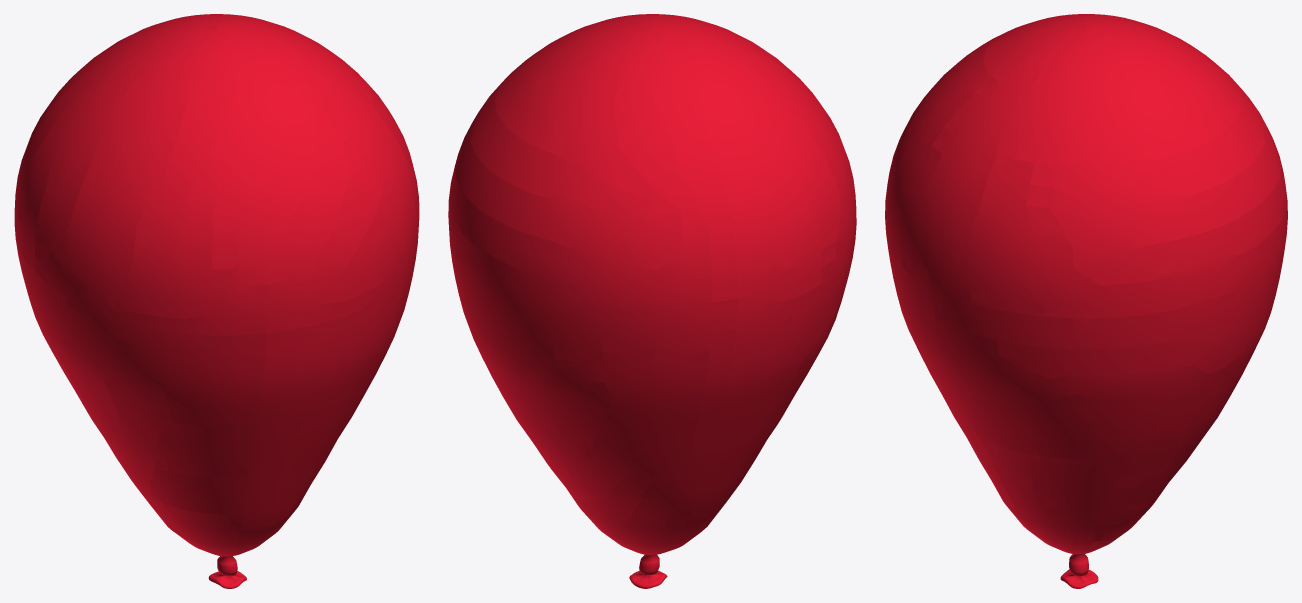
Rendered from balloon13.gltf.
The picture shows the model from 3 angles, left to right: view 1: azimuth 30°, elevation 25°; view 2: azimuth 150°, elevation 25°; view 3: azimuth 270°, elevation 25°; orthographic projection.
Parts seen in each view (by area): view 1: Sphere; view 2: Sphere; view 3: Sphere.
Part boxes in pixels (x1,y1,x2,y2): Sphere: (14, 14, 419, 588); Sphere: (448, 14, 856, 588); Sphere: (885, 14, 1287, 588).
Bounding box in the file's own units: 1.91 × 2.87 × 1.91.
